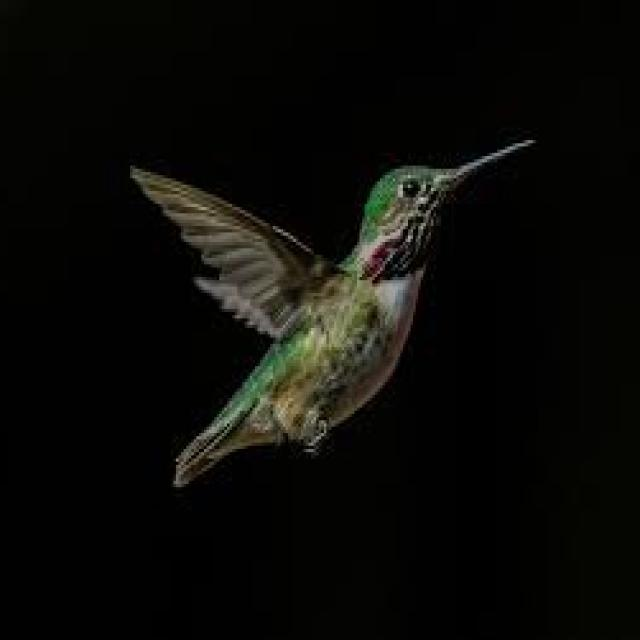hummingbird: (133, 140, 533, 484)
